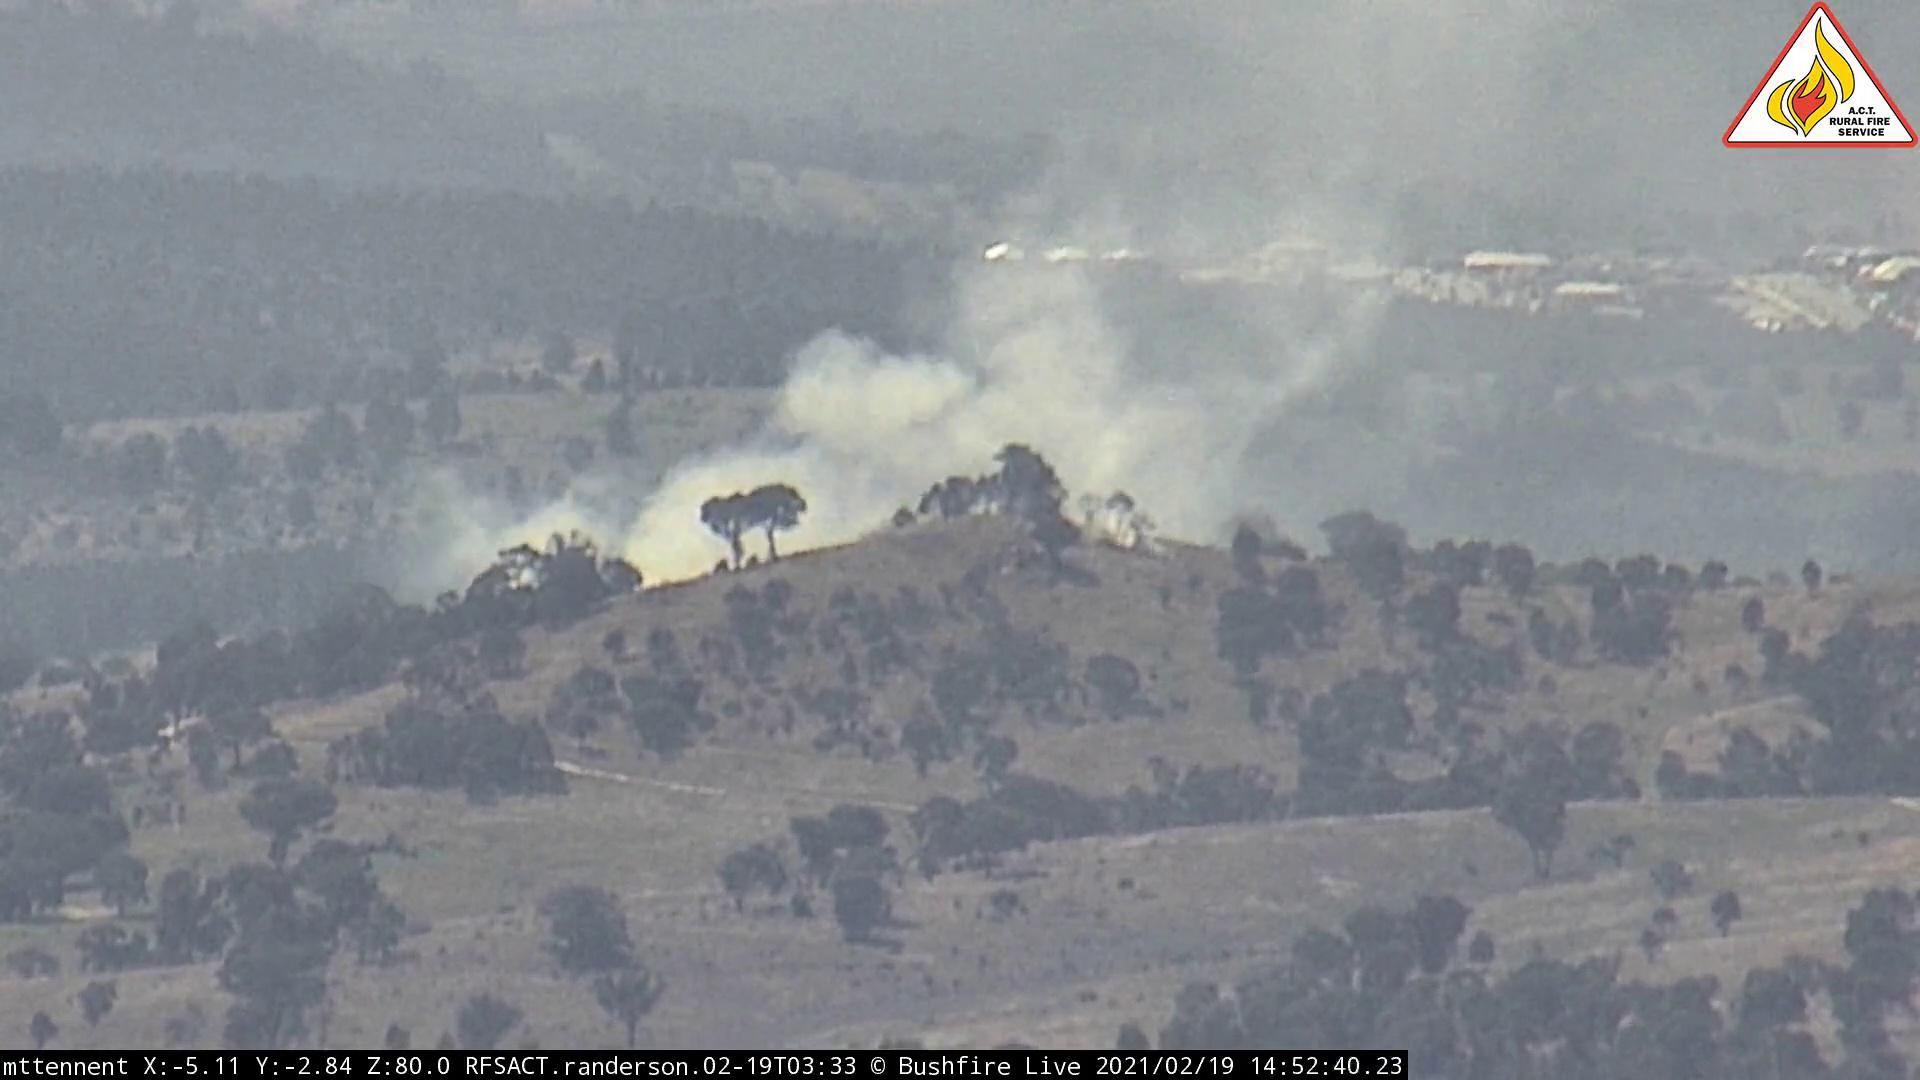instance_salient_object: (396, 204, 1423, 622)
